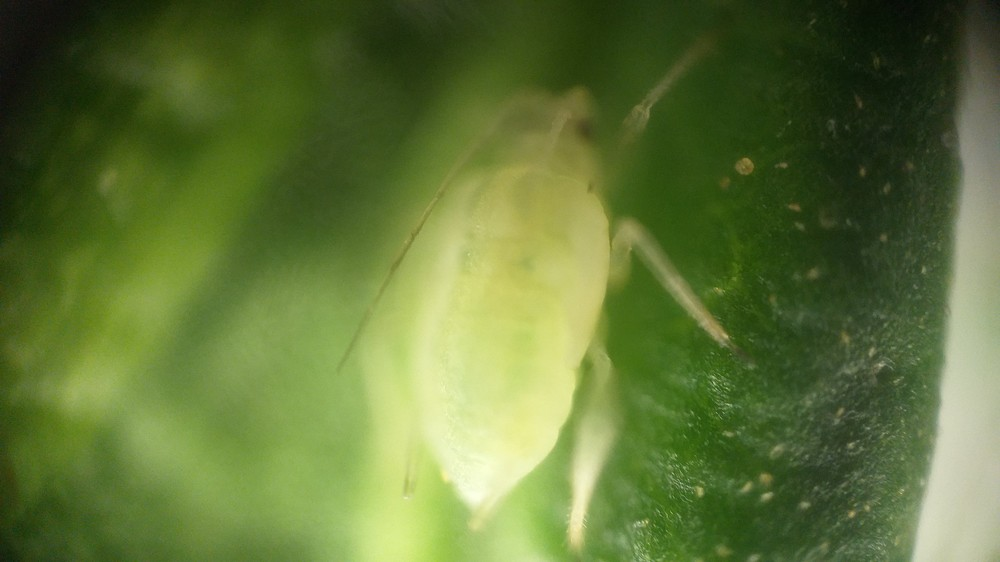Pulgon: (309, 30, 760, 550)
